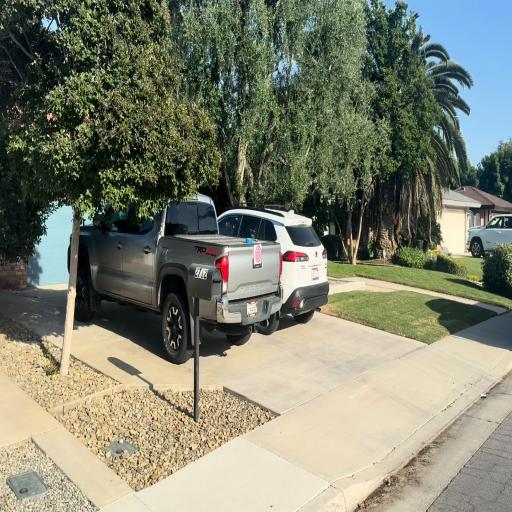bullseye: (254, 244, 262, 264)
